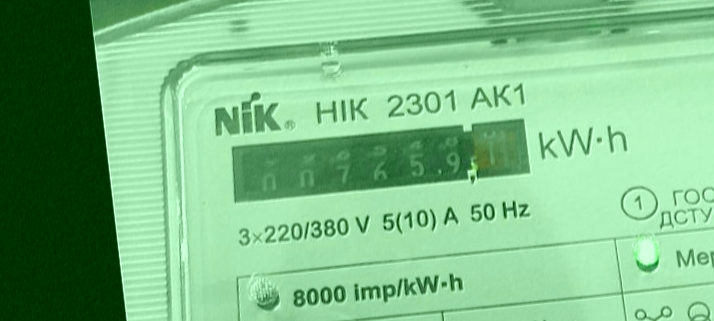0: (260, 167, 281, 195), (298, 164, 319, 191)
1: (484, 136, 502, 169)
5: (406, 149, 431, 178)
6: (370, 156, 392, 183)
7: (333, 161, 356, 188)
9: (444, 147, 465, 176)
screen: (218, 98, 545, 224)
